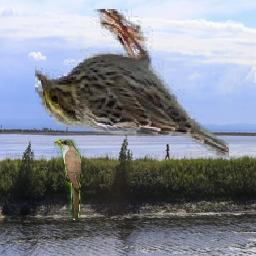Cuckoo: (55, 140, 82, 221)
Sparrow: (35, 10, 229, 159)
